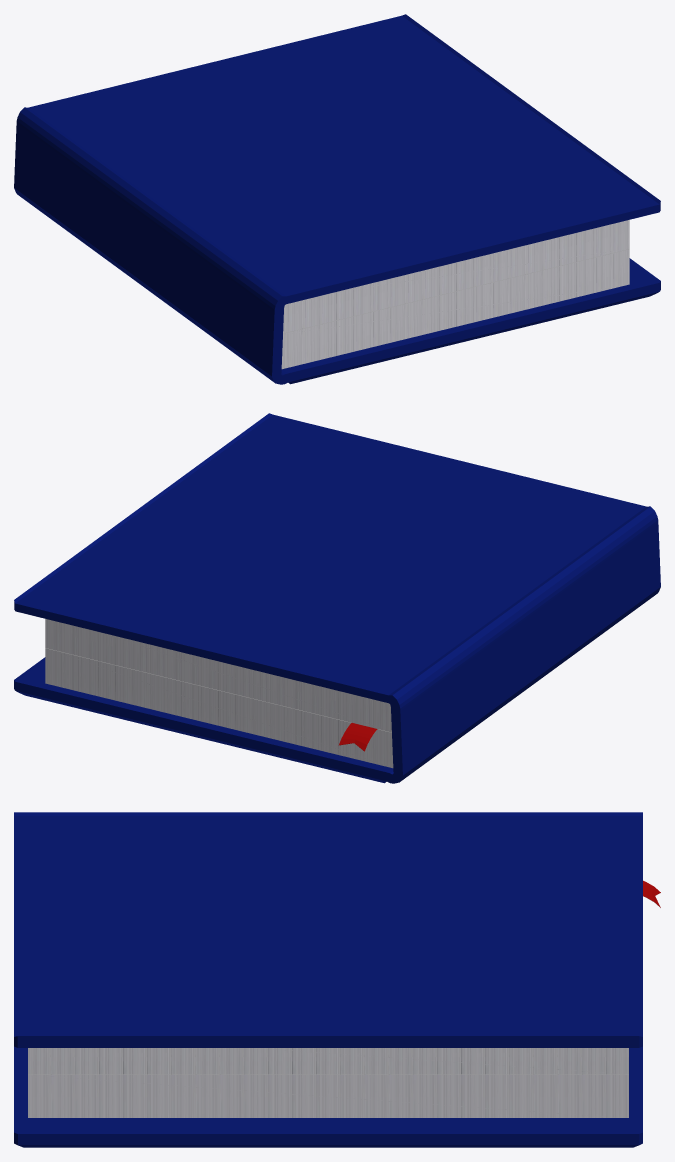
The model's file is libro1.fbx.
3 renders of one model, top to bottom at view 1: azimuth 30°, elevation 25°; view 2: azimuth 150°, elevation 25°; view 3: azimuth 270°, elevation 25°, orthographic. The views are drawn at different scales.
Parts seen in each view (by area): view 1: book1:Mesh; view 2: book1:Mesh; view 3: book1:Mesh.
Boxes of the visible parts, <box> form: book1:Mesh: <box>14,14,660,384</box>; book1:Mesh: <box>14,413,660,783</box>; book1:Mesh: <box>14,812,660,1147</box>.
Size of the model in its own units: 1.75 by 0.4091 by 2.06.
4 materials, 1 textured.
